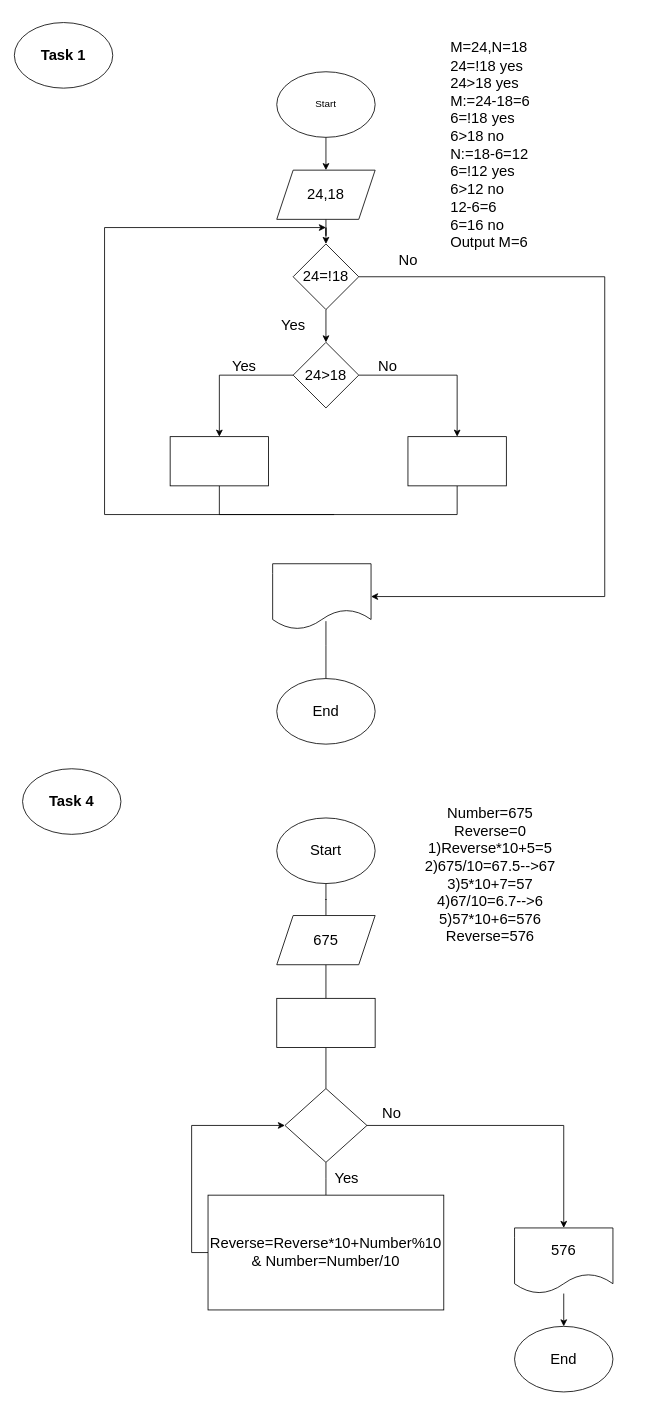
Image size: 668x1406. Some labels were removed from this diagram. Each missing label, with the box of its shape:
M:=24-18=6: (169, 436, 269, 486)
M=6: (272, 563, 371, 629)
N:=18-24: (407, 436, 506, 486)
Number>0: (284, 1088, 367, 1162)
Reverse=0: (276, 998, 375, 1048)
